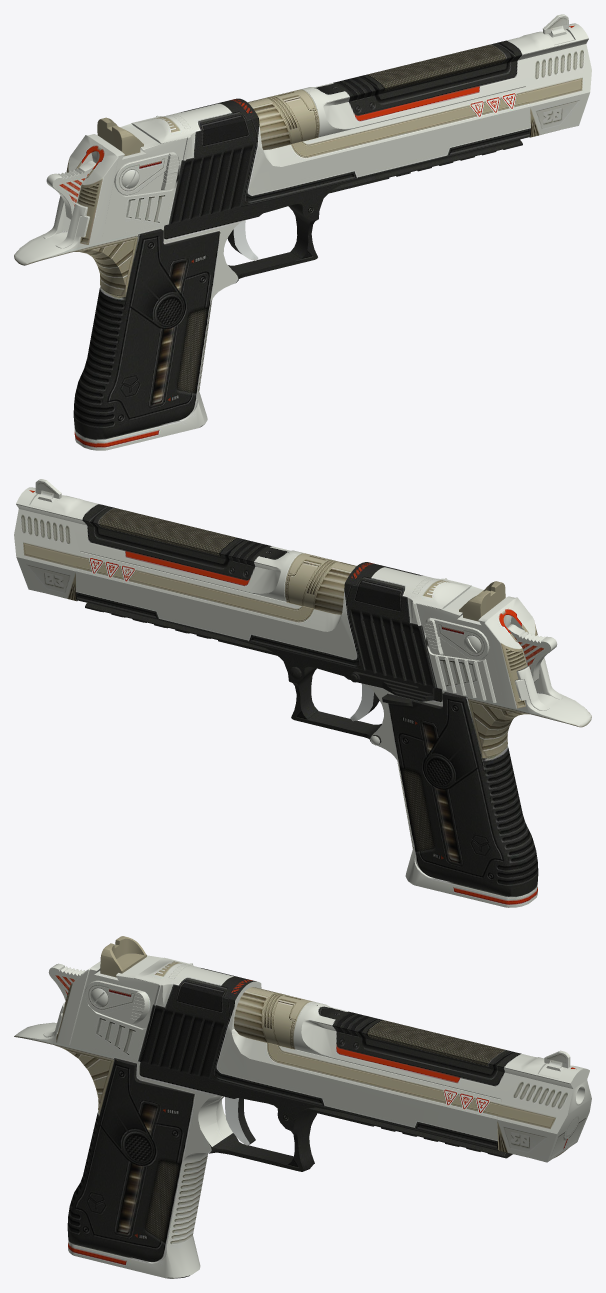
The model's file is w_pistol50_mecha.glb.
3 views of the same model, one above another, from view 1: azimuth 30°, elevation 25°; view 2: azimuth 150°, elevation 25°; view 3: azimuth 330°, elevation 25° (orthographic).
Visible parts, largest first — view 1: Gun_Root; view 2: Gun_Root; view 3: Gun_Root.
Boxes of the visible parts, box(x1,y1,x2,y2) form: Gun_Root: box(14, 14, 591, 450); Gun_Root: box(14, 479, 591, 907); Gun_Root: box(14, 936, 591, 1278).
Bounding box in the file's own units: 0.2842 × 0.1495 × 0.033.
Materials: 1 (1 with a texture image).
